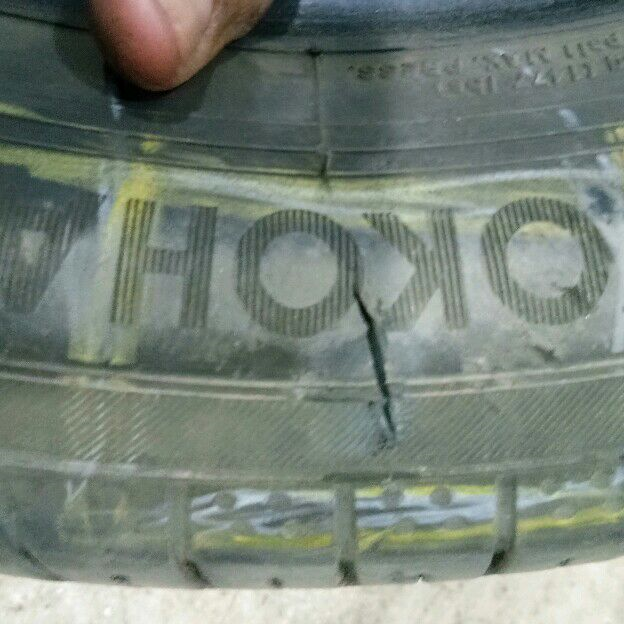cut: (354, 289, 404, 441)
